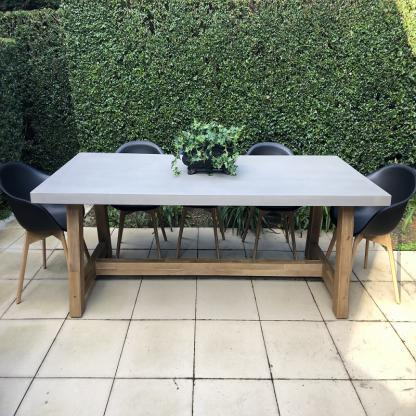table: (27, 146, 392, 324)
